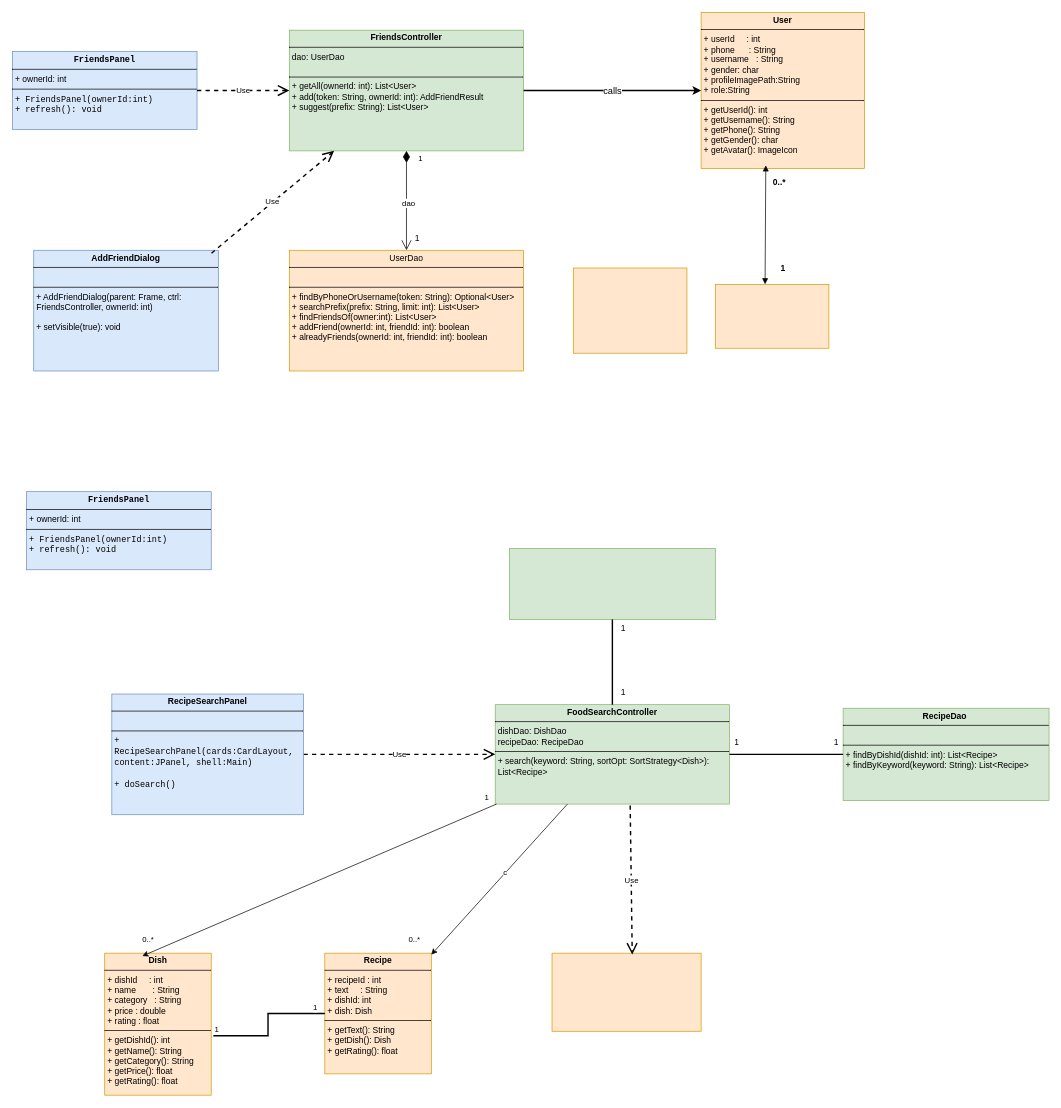
This 1061x1108 diagram has some shape labels left out. The shapes that lost their labels are listed below. From the top down, each one's box as (x1, y1, x2, y2) in pixels, then its label:
(573, 267, 687, 353): AddFriendResult ADDED / ALREADY / NOT_FOUND
(715, 284, 829, 348): Friend + friendId : int + getFriendId(): int
(509, 548, 715, 619): DishDao + findByKeyword(keyword: String): List<Dish>
(551, 952, 701, 1031): SortStrategy + sort(items: List<Dish>): List<Dish>
